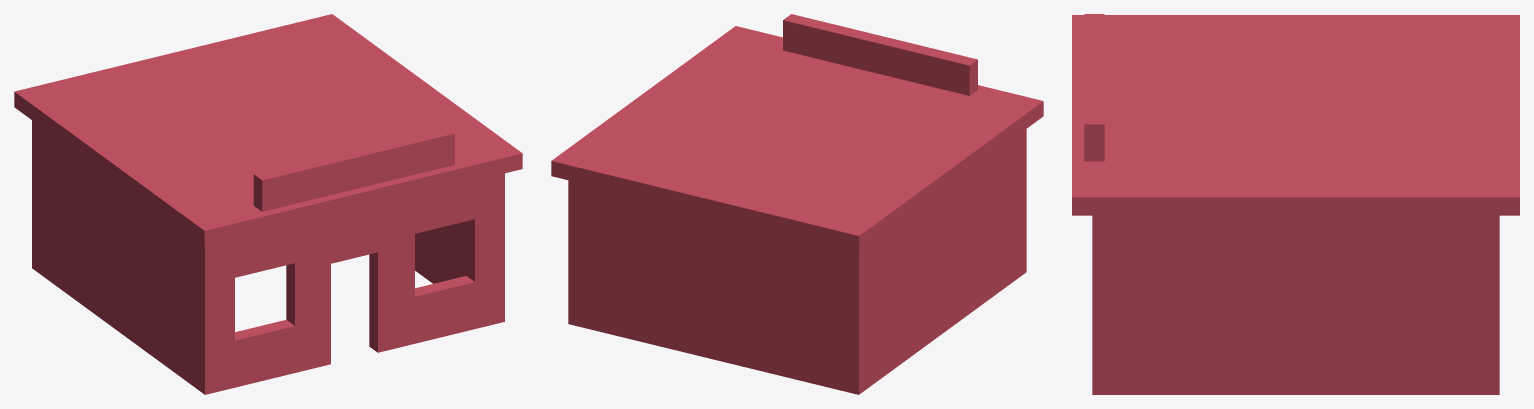
File: small_shop.glb
The picture shows the model from 3 angles, left to right: view 1: azimuth 30°, elevation 25°; view 2: azimuth 150°, elevation 25°; view 3: azimuth 270°, elevation 25°; orthographic projection. The views are drawn at different scales.
Visible parts, largest first — view 1: Mesh_Mesh_head_geo.001_lambert2SG.001; view 2: Mesh_Mesh_head_geo.001_lambert2SG.001; view 3: Mesh_Mesh_head_geo.001_lambert2SG.001.
Boxes of the visible parts, box(x1,y1,x2,y2) form: Mesh_Mesh_head_geo.001_lambert2SG.001: box(14, 14, 522, 394); Mesh_Mesh_head_geo.001_lambert2SG.001: box(551, 14, 1043, 394); Mesh_Mesh_head_geo.001_lambert2SG.001: box(1072, 14, 1519, 394).
Size of the model in its own units: 8.41 by 5.16 by 8.73.
